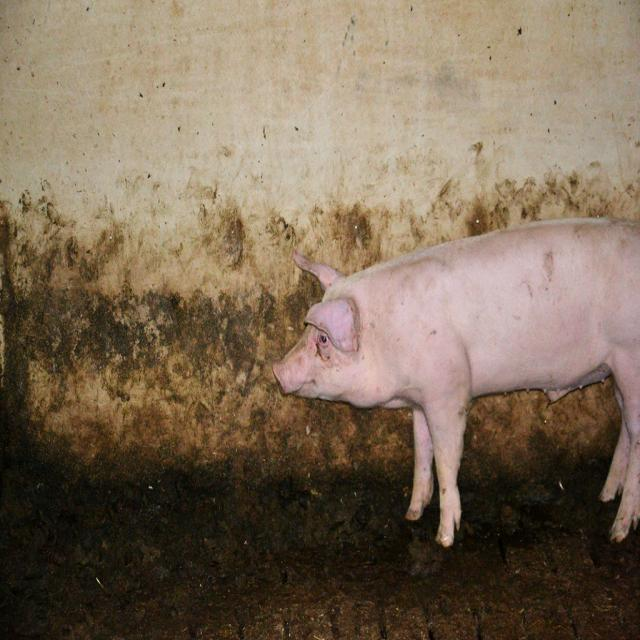Pig: (272, 212, 640, 541)
